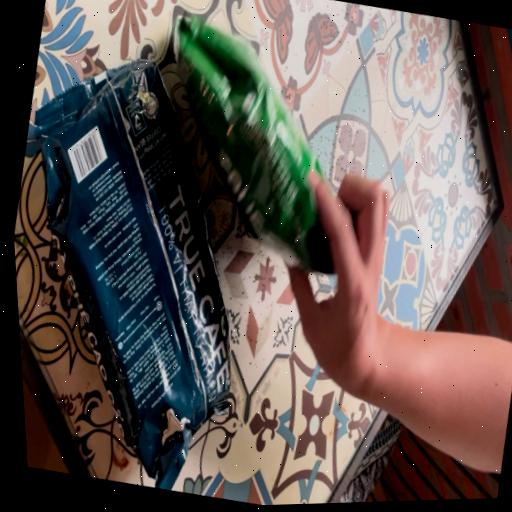cafe_hat: (30, 59, 231, 490)
cafe_xay: (177, 16, 334, 274)
